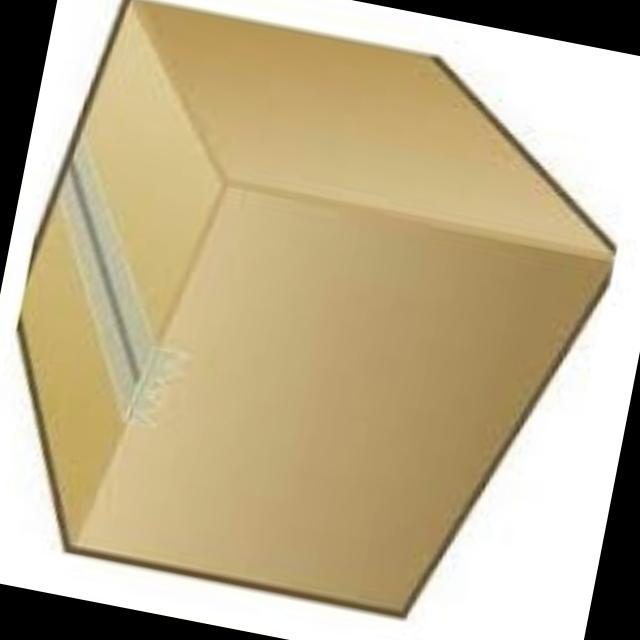cardboard paper: (15, 0, 607, 608)
